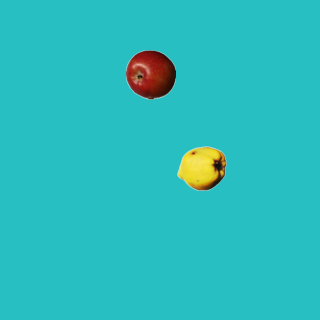Apple Braeburn: (125, 49, 175, 99)
Quince: (176, 143, 226, 193)
